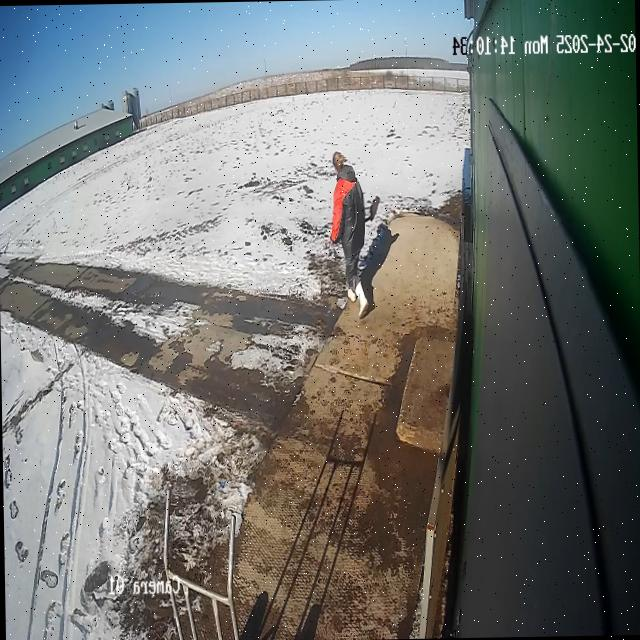Red uniform: (326, 148, 384, 322)
